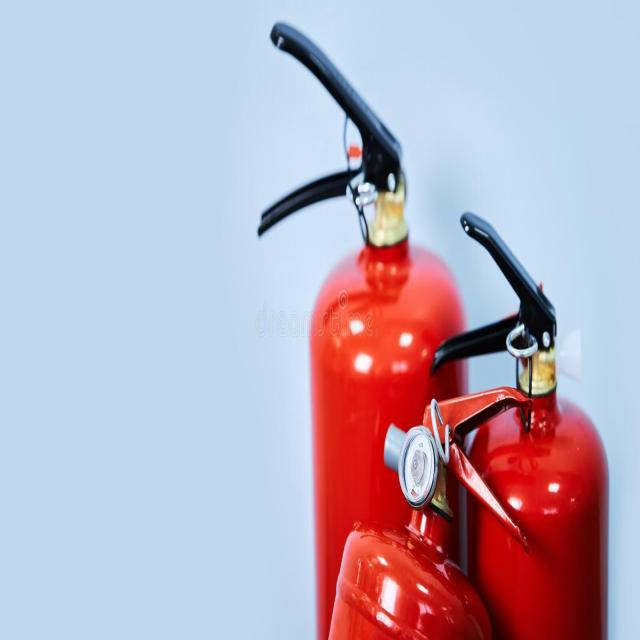fire_extinguisher: (252, 14, 479, 639), (426, 203, 616, 639), (317, 382, 538, 639)
